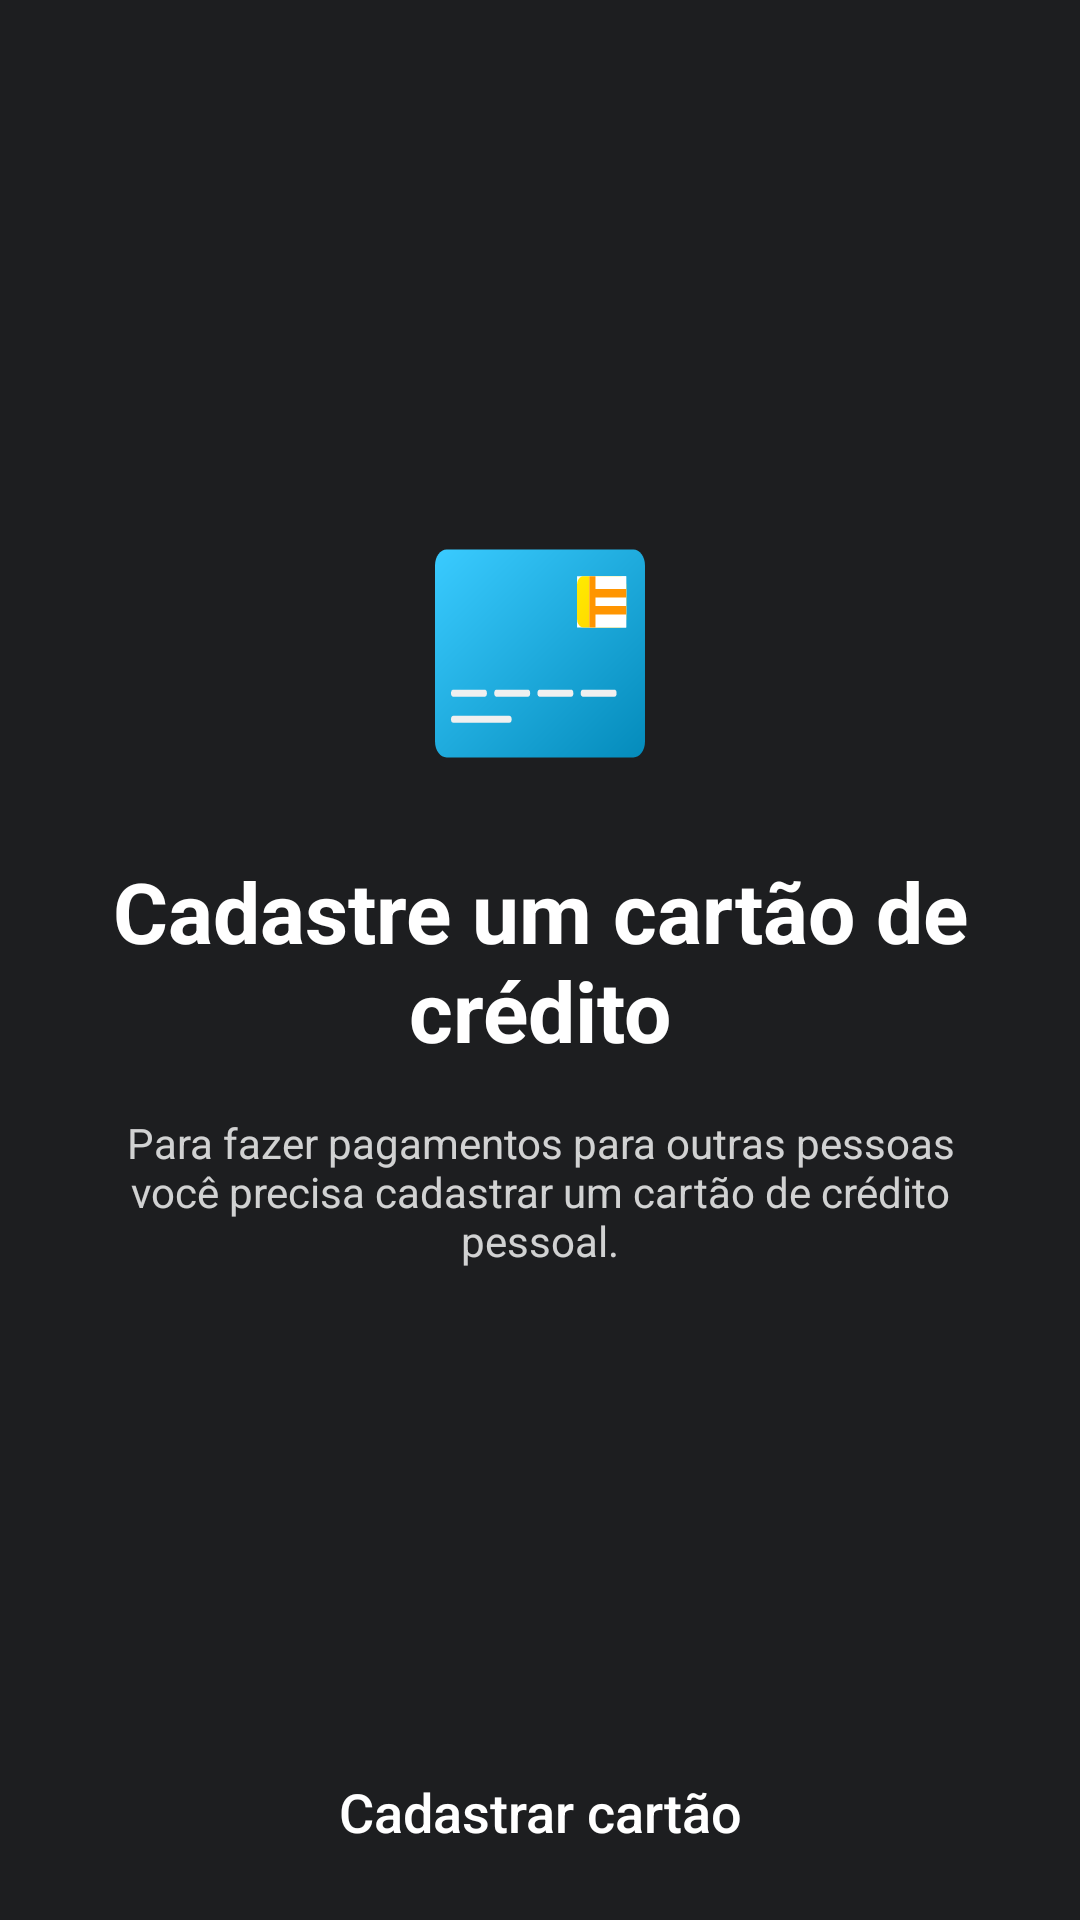

Locate icon controls on the screen. Image size 1080 × 1920, boxes as (x1, y1, x2, y2).
credit card: (435, 549, 645, 758)
